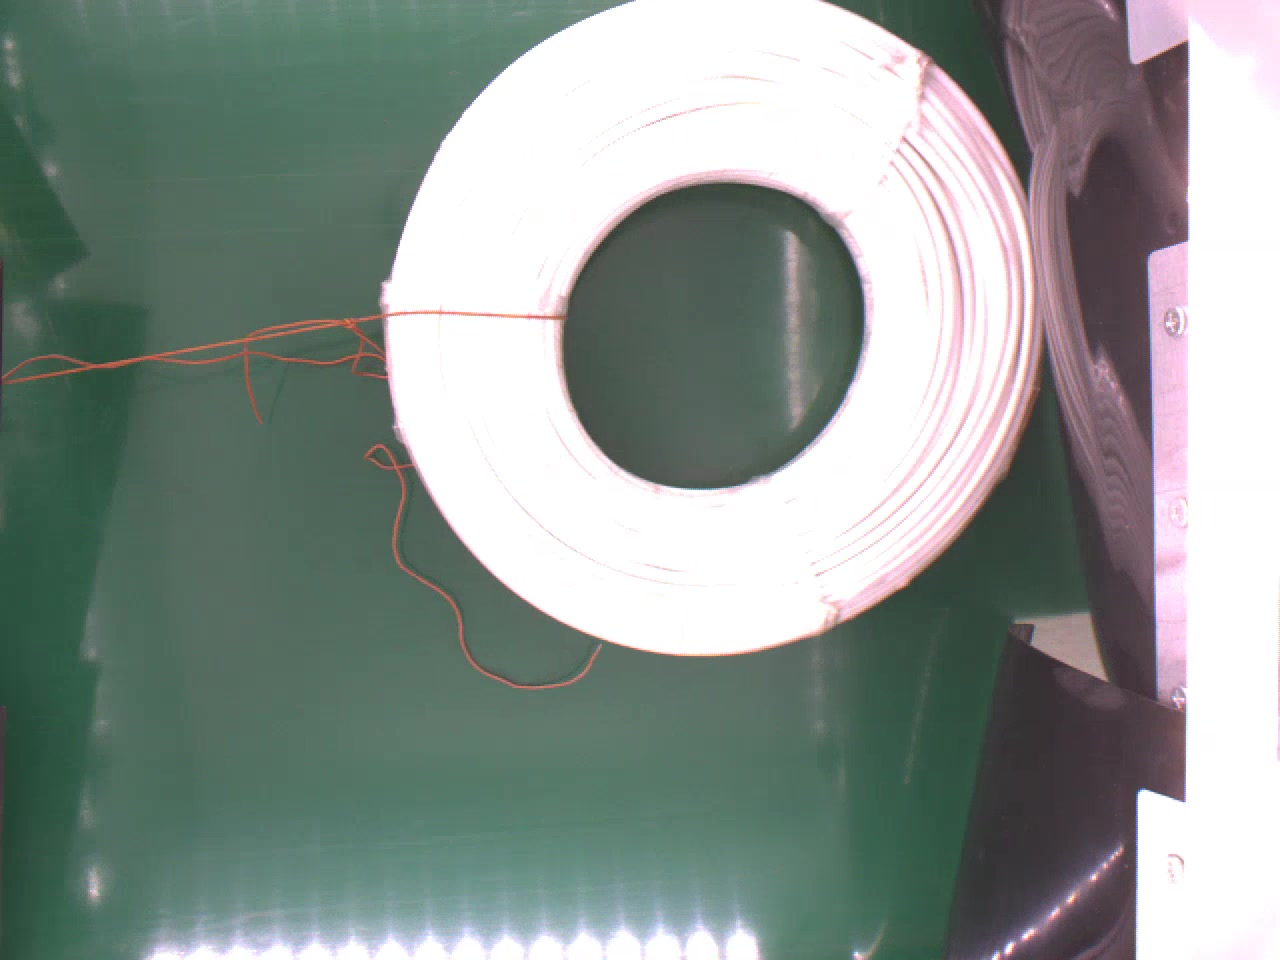white: (376, 0, 1043, 659)
